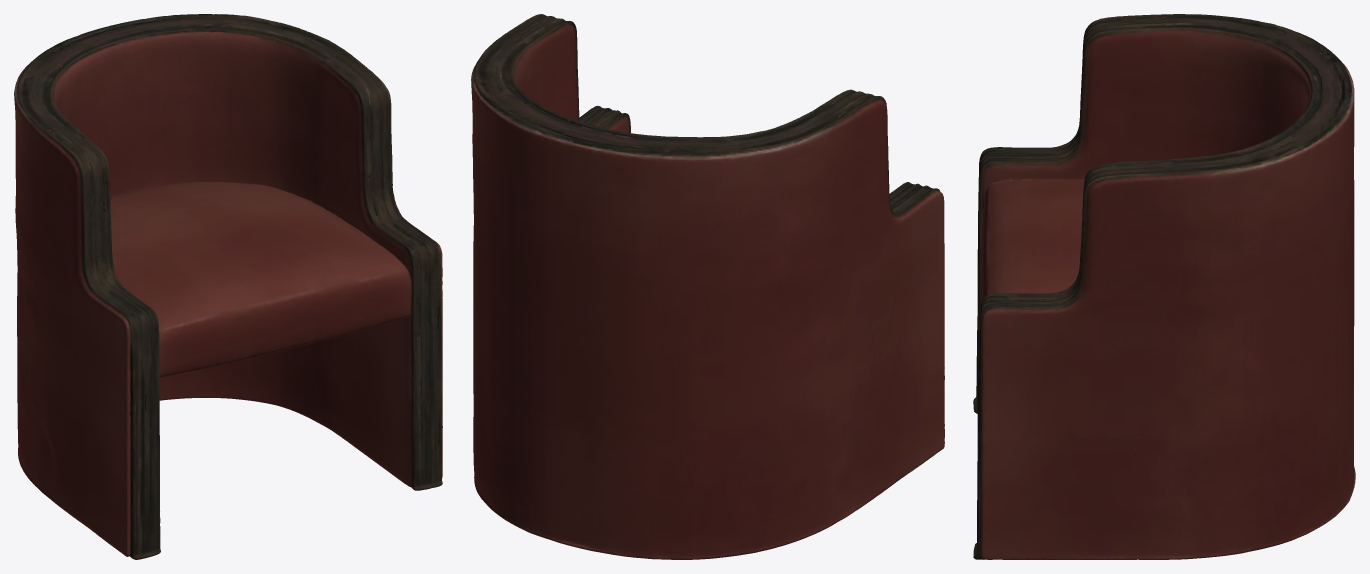
File: armchair_velvet.glb
The picture shows the model from 3 angles, left to right: view 1: azimuth 30°, elevation 25°; view 2: azimuth 150°, elevation 25°; view 3: azimuth 270°, elevation 25°; orthographic projection. The views are drawn at different scales.
Visible parts, largest first — view 1: world; view 2: world; view 3: world.
Part boxes in pixels (left/top/right/bottom): world: left=14, top=14, right=442, bottom=559; world: left=471, top=14, right=944, bottom=559; world: left=973, top=14, right=1355, bottom=559.
Size of the model in its own units: 0.8987 by 1 by 0.8854.
Materials: 1 (1 with a texture image).
